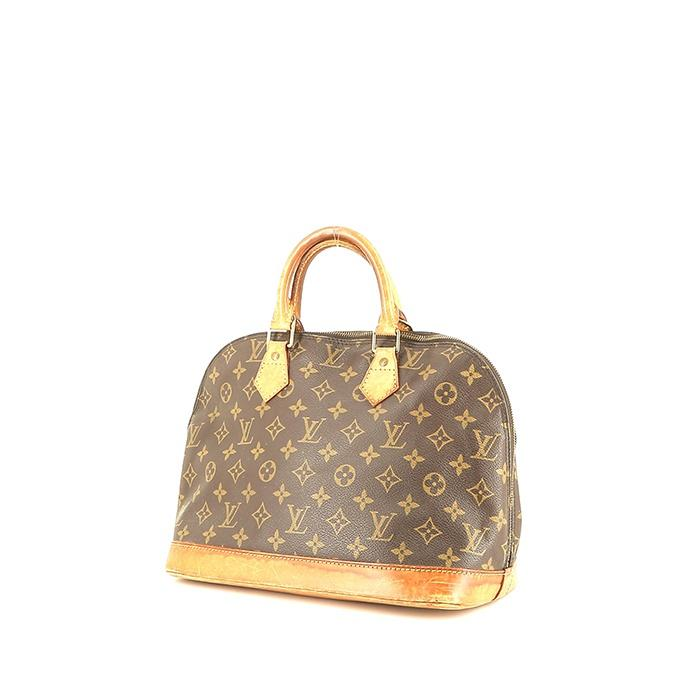LOUIS-VUITTON: (180, 321, 517, 569)
